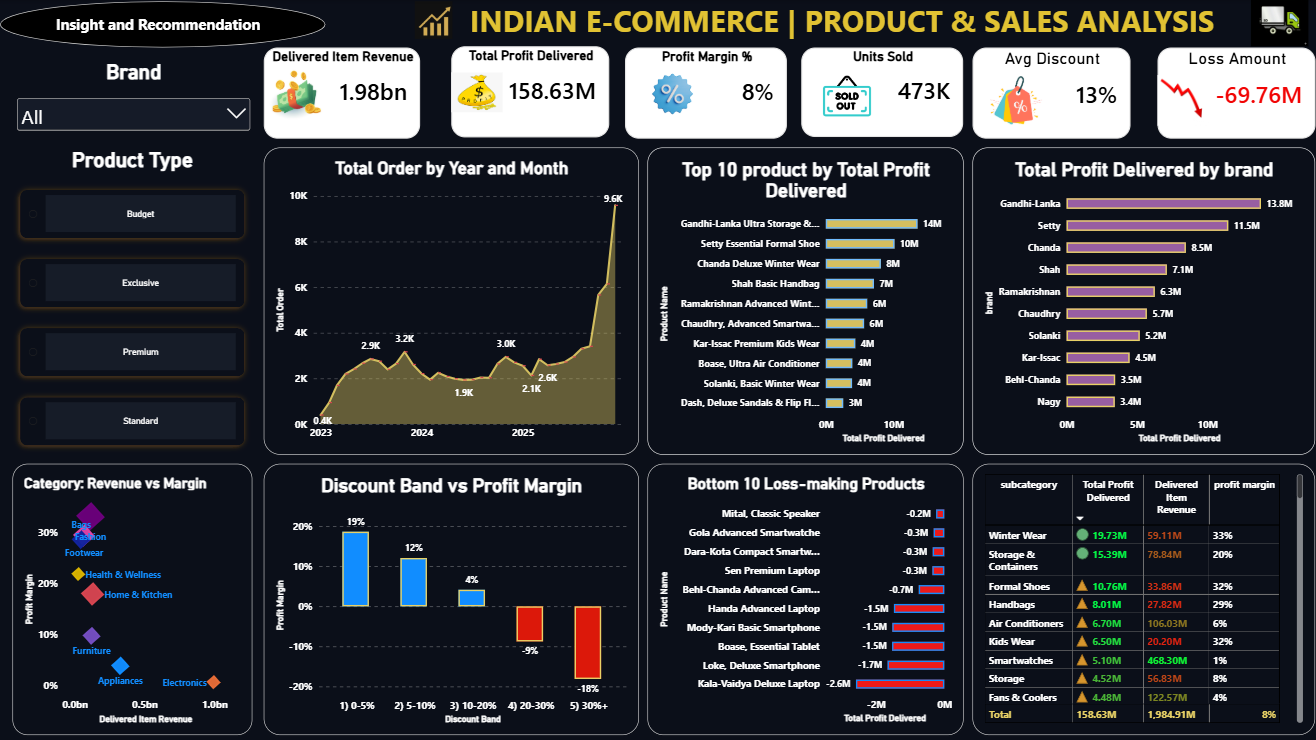

The dashboard page shown, as its layout file describes it:
{"tool":"powerbi","page":{"name":"Product & Sales Analysis","canvas":[1920,1080],"ordinal":1},"visuals":[{"type":"cardVisual","title":"Delivered Item Revenue ","fields":{"Data":["order_items_cleaned.Net Revenue"]},"box":[381.8,68.8,226.4,131.7],"z":0},{"type":"cardVisual","title":"Total Profit Delivered","fields":{"Data":["order_items_cleaned.Total Profit Delivered"]},"box":[653.3,67,228.5,131.7],"z":1000},{"type":"cardVisual","title":"Profit Margin %","fields":{"Data":["order_items_cleaned.profit margin"]},"box":[904.8,68.8,234.6,131.7],"z":2000},{"type":"cardVisual","title":"Units Sold","fields":{"Data":["orders_cleaned.UNITS SOLD"]},"box":[1160.4,69.6,234.3,130],"z":3000},{"type":"cardVisual","title":"Avg Discount","fields":{"Data":["orders_cleaned.AVERAGE DISCOUNT"]},"box":[1407.9,68.8,228.5,131.7],"z":4000},{"type":"cardVisual","title":"Loss Amount","fields":{"Data":["orders_cleaned.LOSS AMOUNT"]},"box":[1675.7,68.8,228.5,131.7],"z":5000},{"type":"textbox","box":[562.3,0,1227,68.9],"z":6000},{"type":"slicer","title":"Brand","fields":{"Values":["products_cleaned.brand"]},"box":[20.5,87.5,347.5,114],"z":10000},{"type":"advancedSlicerVisual","title":"Product Type","fields":{"Values":["products_cleaned.product_type"]},"box":[18.1,213.5,347.5,445.2],"z":11000},{"type":"clusteredColumnChart","title":"Discount Band vs Profit Margin","fields":{"Category":["order_items_cleaned.Discount Band"],"Y":["order_items_cleaned.profit margin"]},"box":[381.8,671.4,542.9,392.7],"z":12000},{"type":"scatterChart","title":"Category: Revenue vs Margin","fields":{"X":["order_items_cleaned.Net Revenue"],"Y":["order_items_cleaned.profit margin"],"Size":["order_items_cleaned.Total Profit Delivered"],"Category":["products_cleaned.category"]},"box":[18.1,671.4,347.5,392.7],"z":13000},{"type":"clusteredBarChart","title":"Top 10 product by Total Profit Delivered","fields":{"Category":["products_cleaned.product_name"],"Y":["order_items_cleaned.Total Profit Delivered"]},"box":[937.4,213.5,457.8,445.2],"z":14000},{"type":"clusteredBarChart","title":"Bottom 10 Loss-making Products","fields":{"Y":["order_items_cleaned.Total Profit Delivered"],"Category":["products_cleaned.product_name"]},"box":[936.5,671,457.8,392.7],"z":15000},{"type":"tableEx","fields":{"Values":["products_cleaned.subcategory","order_items_cleaned.Total Profit Delivered","order_items_cleaned.Net Revenue","order_items_cleaned.profit margin"]},"box":[1407.9,671.4,495.8,392.7],"z":16000},{"type":"clusteredBarChart","fields":{"Category":["products_cleaned.brand"],"Y":["order_items_cleaned.Total Profit Delivered"]},"box":[1407.9,213.5,495.8,445.2],"z":17000},{"type":"lineChart","title":"Total Order by Year and Month","fields":{"Y":["customers_cleaned.TOTAL ORDER"],"Category":["orders_cleaned.MONTH START.Variation.Date Hierarchy.Year","orders_cleaned.MONTH START.Variation.Date Hierarchy.Month"]},"box":[381.8,213.5,542.9,445.2],"z":18000},{"type":"image","box":[381.8,94.1,88.7,81.4],"z":19000},{"type":"image","box":[653.3,90.5,74.2,86.9],"z":20000},{"type":"image","box":[904.8,94.1,137.5,83.2],"z":21000},{"type":"image","box":[1407.5,109.8,126.3,69.6],"z":22000},{"type":"image","box":[1676.6,102.5,73.2,84.2],"z":23000},{"type":"image","box":[1173.2,89.7,104.3,97],"z":24000},{"type":"image","box":[584.6,1.9,86.9,54.3],"z":25000},{"type":"image","box":[1800.5,0,104.3,67],"z":25007},{"type":"actionButton","box":[0,1.9,471.1,67],"z":25008}]}

Visuals, with their boxes in screenshot pixels (x1, y1, x2, y2), scaled from the page's 1920x1080 canvas onto the 1316x740 screenshot:
"Delivered Item Revenue " cardVisual: x1=262 y1=47 x2=417 y2=137
"Total Profit Delivered" cardVisual: x1=448 y1=46 x2=604 y2=136
"Profit Margin %" cardVisual: x1=620 y1=47 x2=781 y2=137
"Units Sold" cardVisual: x1=795 y1=48 x2=956 y2=137
"Avg Discount" cardVisual: x1=965 y1=47 x2=1122 y2=137
"Loss Amount" cardVisual: x1=1149 y1=47 x2=1305 y2=137
textbox: x1=385 y1=0 x2=1226 y2=47
"Brand" slicer: x1=14 y1=60 x2=252 y2=138
"Product Type" advancedSlicerVisual: x1=12 y1=146 x2=251 y2=451
"Discount Band vs Profit Margin" clusteredColumnChart: x1=262 y1=460 x2=634 y2=729
"Category: Revenue vs Margin" scatterChart: x1=12 y1=460 x2=251 y2=729
"Top 10 product by Total Profit Delivered" clusteredBarChart: x1=643 y1=146 x2=956 y2=451
"Bottom 10 Loss-making Products" clusteredBarChart: x1=642 y1=460 x2=956 y2=729
tableEx - products_cleaned.subcategory x order_items_cleaned.Total Profit Delivered: x1=965 y1=460 x2=1305 y2=729
clusteredBarChart - products_cleaned.brand x order_items_cleaned.Total Profit Delivered: x1=965 y1=146 x2=1305 y2=451
"Total Order by Year and Month" lineChart: x1=262 y1=146 x2=634 y2=451
image: x1=262 y1=64 x2=322 y2=120
image: x1=448 y1=62 x2=499 y2=122
image: x1=620 y1=64 x2=714 y2=121
image: x1=965 y1=75 x2=1051 y2=123
image: x1=1149 y1=70 x2=1199 y2=128
image: x1=804 y1=61 x2=876 y2=128
image: x1=401 y1=1 x2=460 y2=39
image: x1=1234 y1=0 x2=1306 y2=46
actionButton: x1=0 y1=1 x2=323 y2=47
